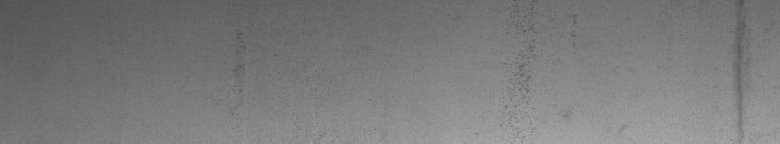ib: (505, 15, 626, 130)
